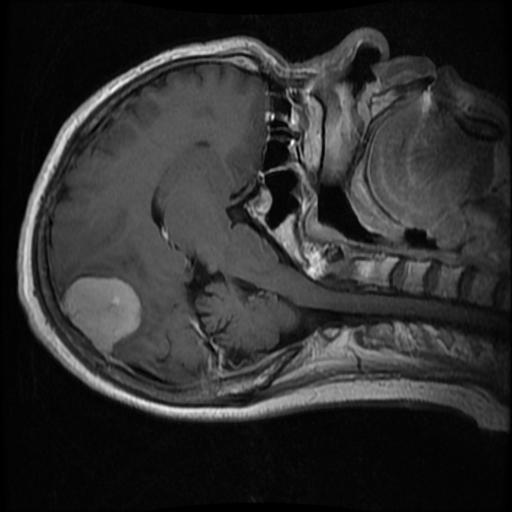meningioma: (62, 276, 141, 349)
